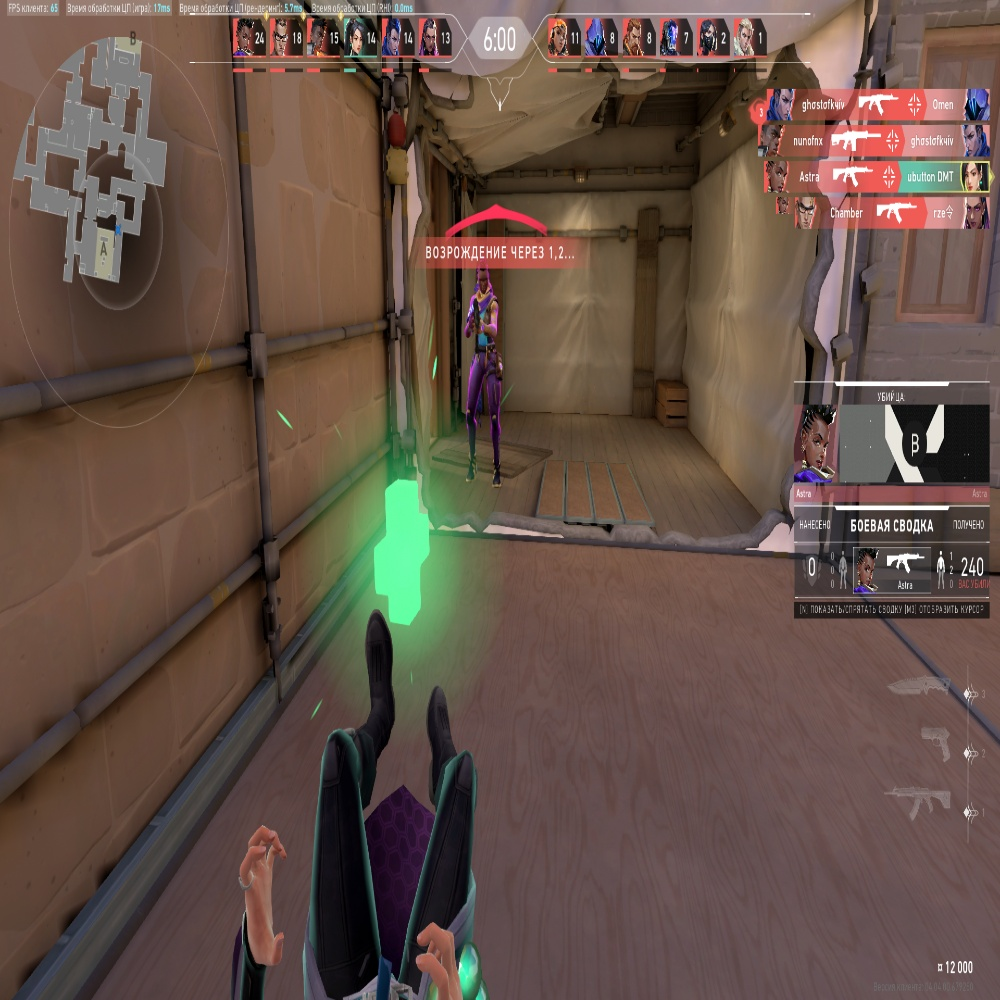body: (471, 299, 498, 356)
head: (477, 268, 489, 290)
